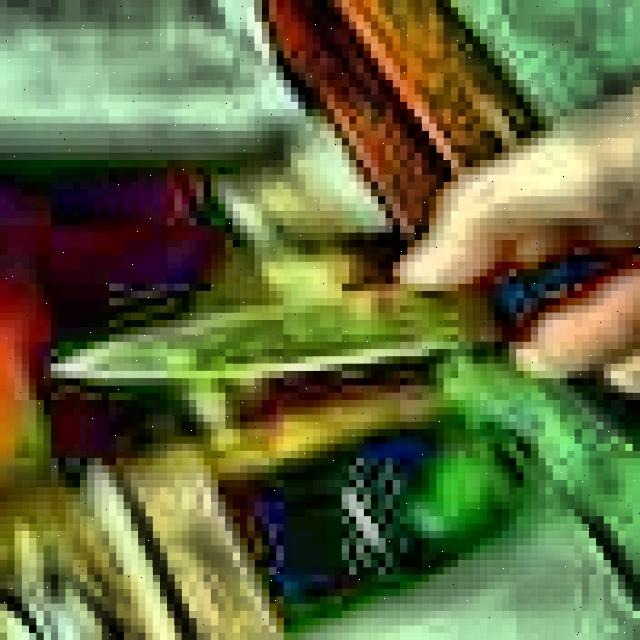knife: (43, 240, 640, 378)
